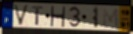1: (92, 6, 100, 30)
3: (68, 6, 82, 29)
H: (50, 5, 67, 28)
M: (102, 7, 120, 29)
T: (31, 5, 45, 26)
V: (12, 4, 30, 26)
